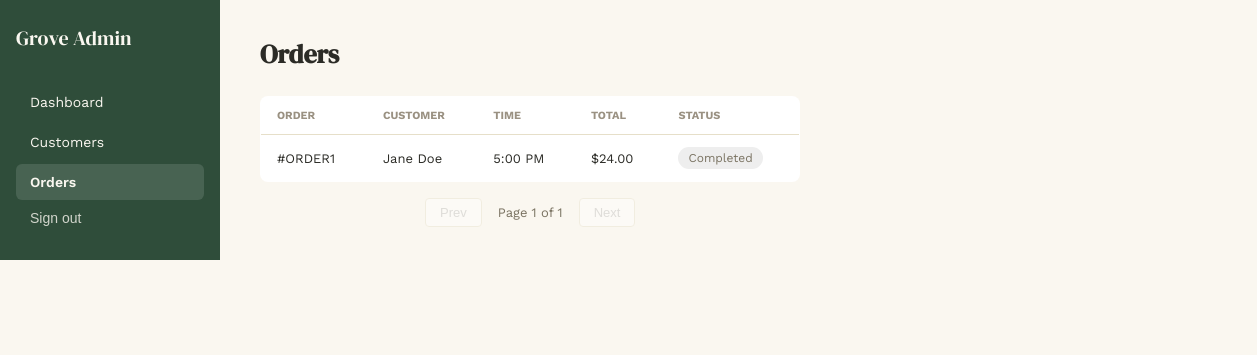
Test case: AdminOrdersView › fetches order detail and shows it when a row is clicked
This screenshot has width=1257, height=355.
Step 1. Click the row with class "order-row" → [530, 158], box [260,134,800,182]
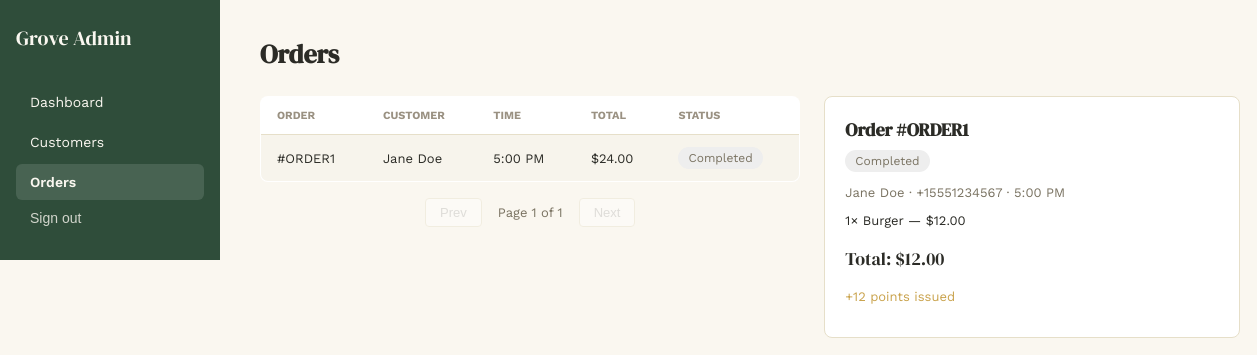
Result: the text "Burger" is shown at [845,213,966,228]
